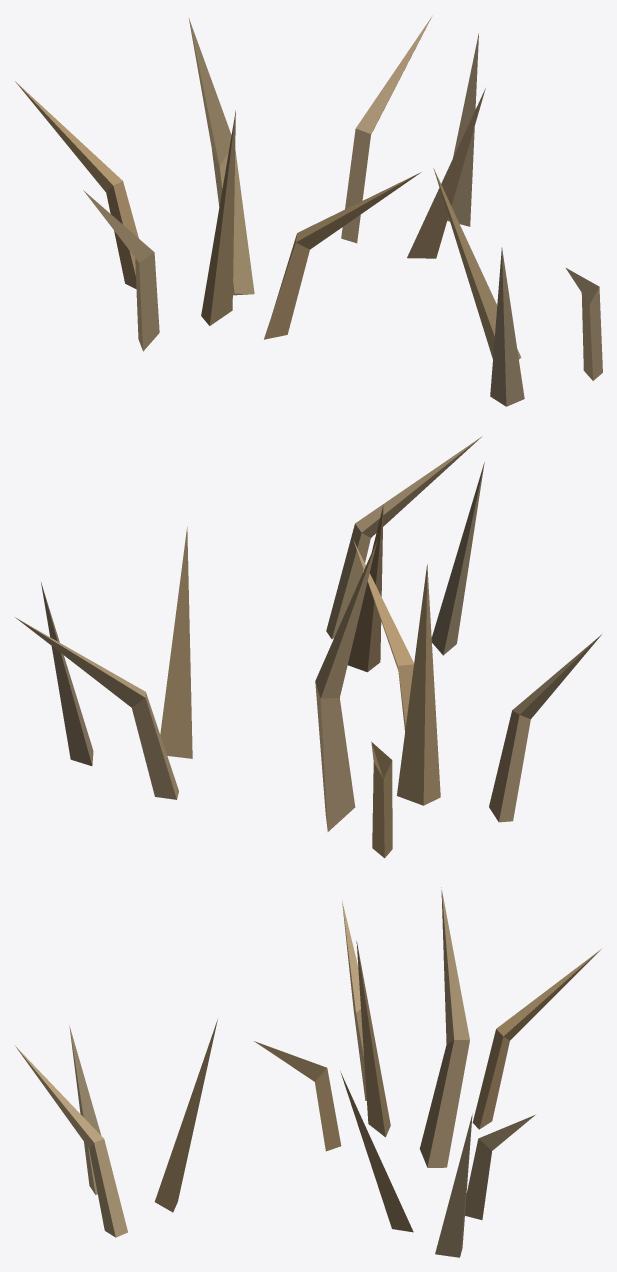
Rendered from Grass3D_b_07.fbx.
3 views of the same model, one above another, from view 1: azimuth 30°, elevation 25°; view 2: azimuth 150°, elevation 25°; view 3: azimuth 270°, elevation 25° (orthographic). The views are drawn at different scales.
Parts seen in each view (by area): view 1: Grass3D_b_07; view 2: Grass3D_b_07; view 3: Grass3D_b_07.
Boxes of the visible parts, bbox=[...] form: Grass3D_b_07: bbox=[15, 15, 602, 406]; Grass3D_b_07: bbox=[15, 436, 601, 858]; Grass3D_b_07: bbox=[15, 887, 601, 1257].
Bounding box in the file's own units: 119 × 70.46 × 144.
